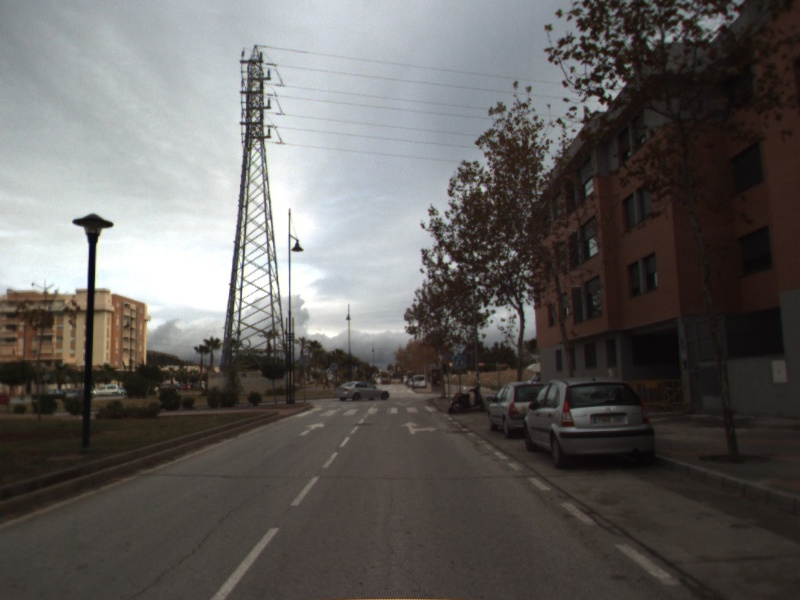STRAIGHT: (297, 420, 327, 437)
STRAIGHT_RIGHT: (399, 419, 439, 436)
